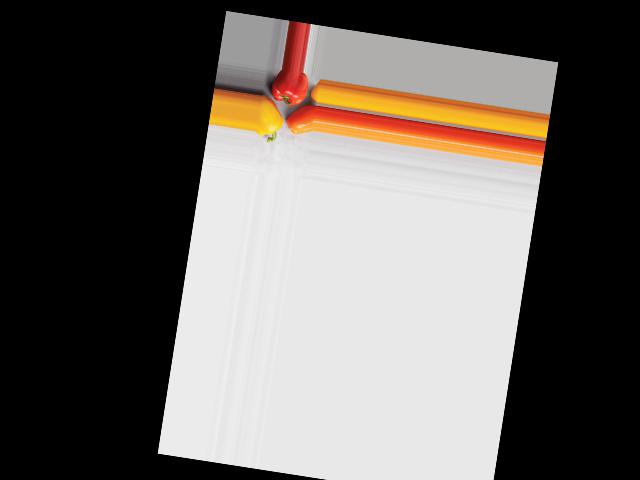bell_pepper: (266, 68, 309, 106)
